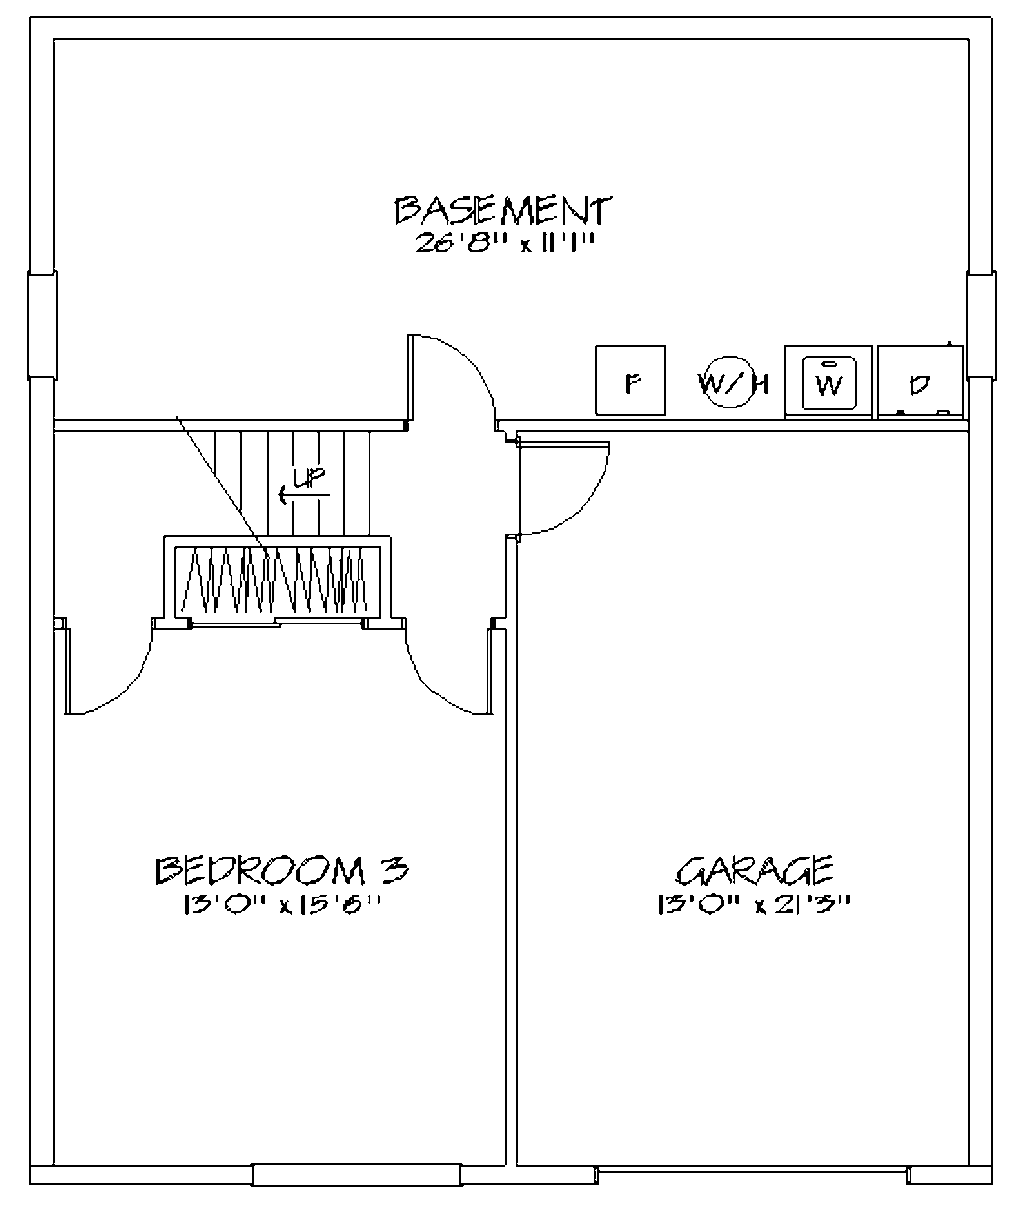door: (503, 436, 636, 539), (53, 610, 161, 721), (396, 327, 505, 431), (409, 621, 503, 723)
stairs: (110, 412, 403, 547)
window: (964, 255, 1007, 392), (22, 268, 62, 386)
